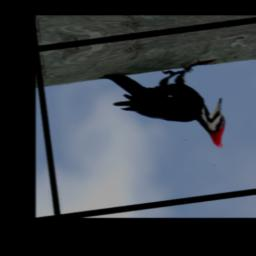Woodpecker: (100, 56, 230, 162)
